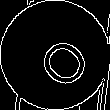O_NW: (22, 22, 88, 88)
